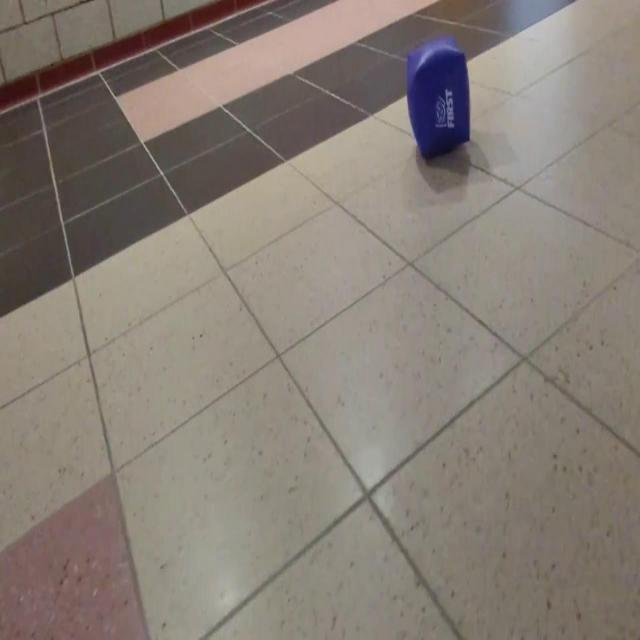frc_cube: (404, 39, 468, 160)
